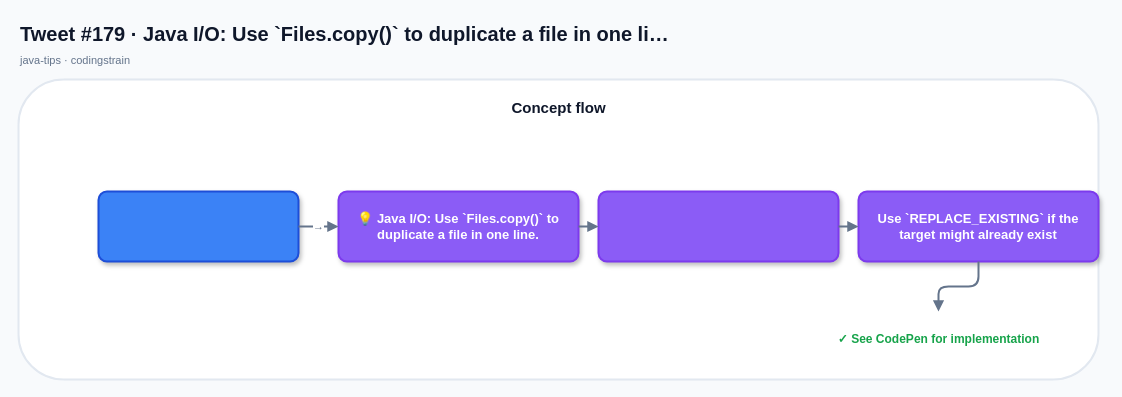
This 1122x397 diagram has some shape labels left out. Here are the shapes that lost their labels. From the top down, the centre of each, then its label:
the point at 199,227: Problem / context
the point at 719,227: Great for backups: `data.csv` → `data.csv.bak`
